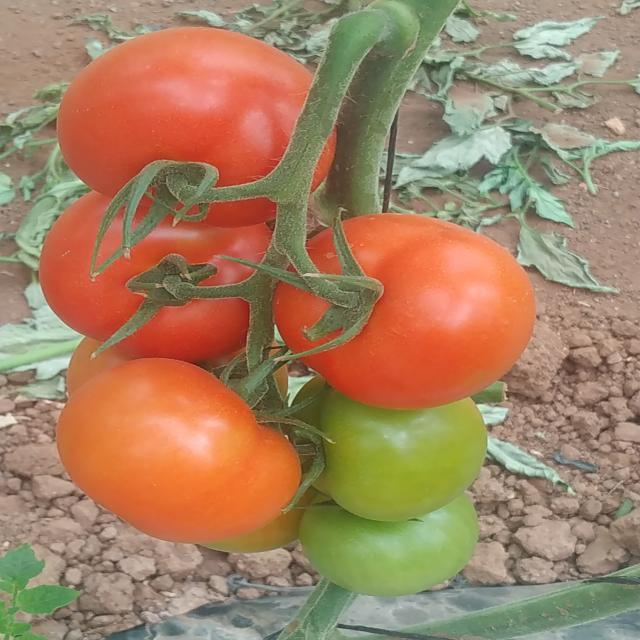Ripe Tomato: (56, 28, 342, 216), (268, 213, 540, 406), (58, 367, 304, 536), (39, 220, 267, 363)
Unripe Tomato: (312, 403, 480, 522), (310, 524, 475, 595)
